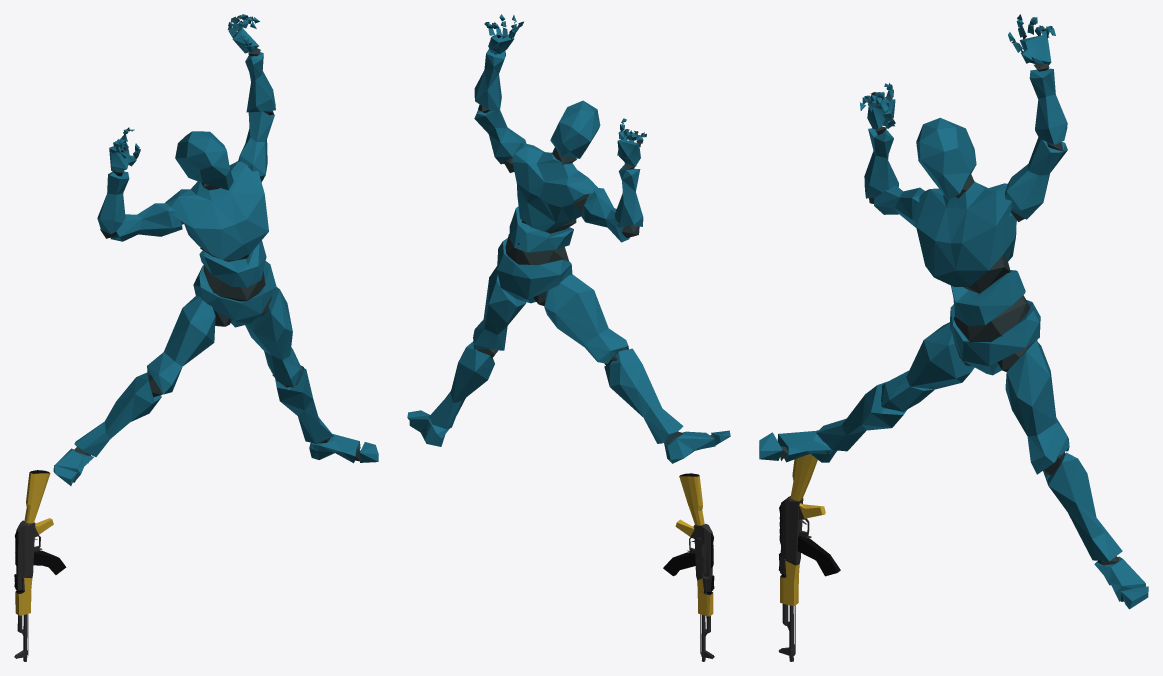
Rendered from EnemyDying_000129.obj.
3 renders of one model, left to right at view 1: azimuth 30°, elevation 25°; view 2: azimuth 150°, elevation 25°; view 3: azimuth 330°, elevation 25°, orthographic. The views are drawn at different scales.
Parts seen in each view (by area): view 1: Alpha_Surface, AK-47_Cube, Alpha_Joints; view 2: Alpha_Surface, AK-47_Cube, Alpha_Joints; view 3: Alpha_Surface, AK-47_Cube, Alpha_Joints.
Part boxes in pixels (left/top/right/bottom): Alpha_Surface: left=53, top=14, right=378, bottom=485; AK-47_Cube: left=14, top=470, right=66, bottom=661; Alpha_Joints: left=71, top=15, right=361, bottom=482; Alpha_Surface: left=407, top=14, right=730, bottom=463; AK-47_Cube: left=663, top=473, right=714, bottom=661; Alpha_Joints: left=477, top=20, right=714, bottom=444; Alpha_Surface: left=759, top=14, right=1148, bottom=609; AK-47_Cube: left=778, top=454, right=840, bottom=661; Alpha_Joints: left=780, top=17, right=1125, bottom=601.
Size of the model in its own units: 314 by 538 by 70.61.
